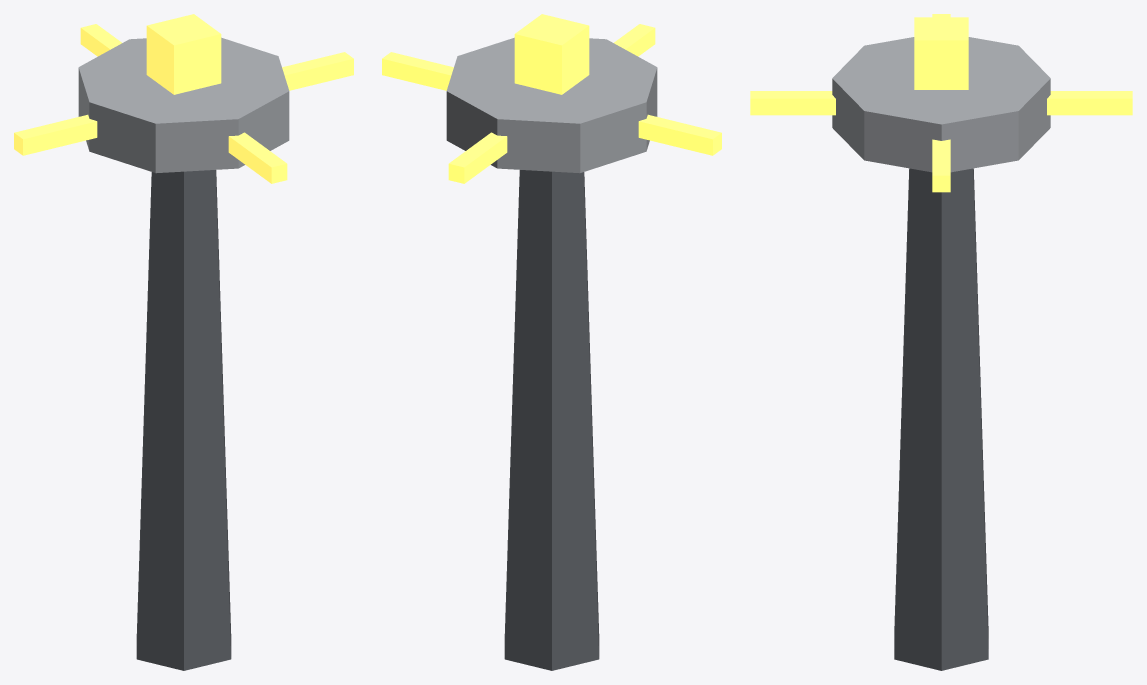
File: HazardNode.glb
The picture shows the model from 3 angles, left to right: view 1: azimuth 30°, elevation 25°; view 2: azimuth 150°, elevation 25°; view 3: azimuth 270°, elevation 25°; orthographic projection.
Visible parts, largest first — view 1: HazardNode; view 2: HazardNode; view 3: HazardNode.
Part boxes in pixels (x1,y1,x2,y2): HazardNode: (14, 14, 353, 670); HazardNode: (382, 14, 721, 670); HazardNode: (750, 14, 1132, 670).
Size of the model in its own units: 2.1 by 3.75 by 2.1.
